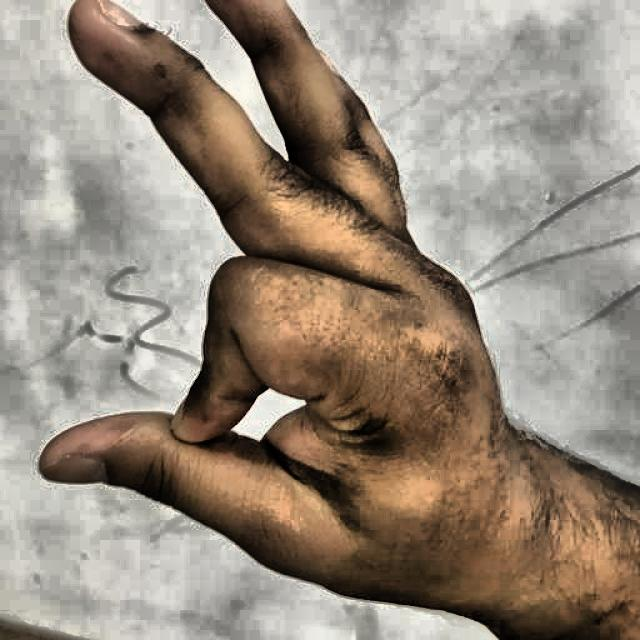Uo: (25, 0, 577, 629)
